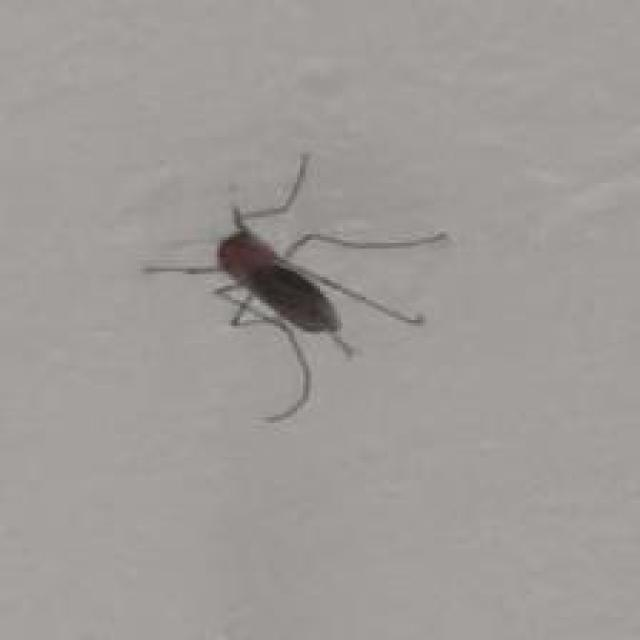Culex: (141, 150, 450, 424)
